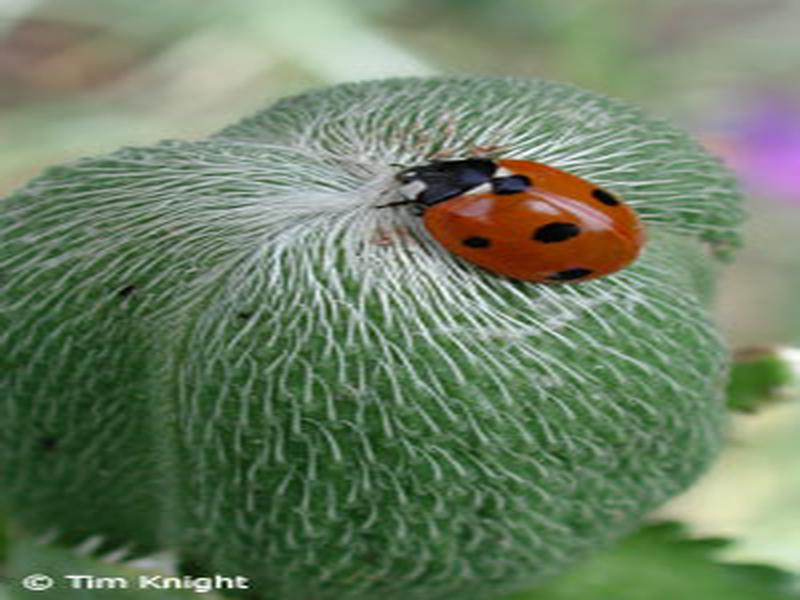Spiny_beetle: (391, 126, 655, 324)
